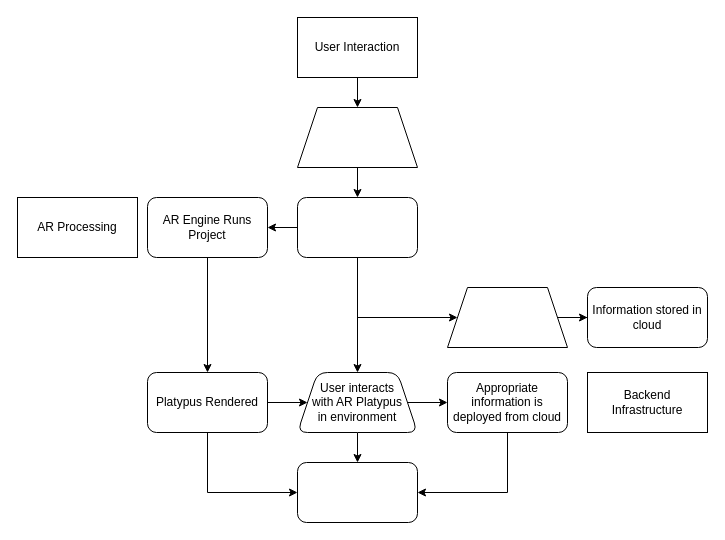
The diagram is 725 pixels wide and 540 high, and some of its shapes have lost their labels. Each missing label, with the box of its shape:
Animations and narration play: (296, 462, 418, 522)
Devices camera opens AR Experience: (296, 196, 418, 258)
User reports bug: (446, 286, 568, 348)
User scans QR code: (296, 106, 418, 168)
